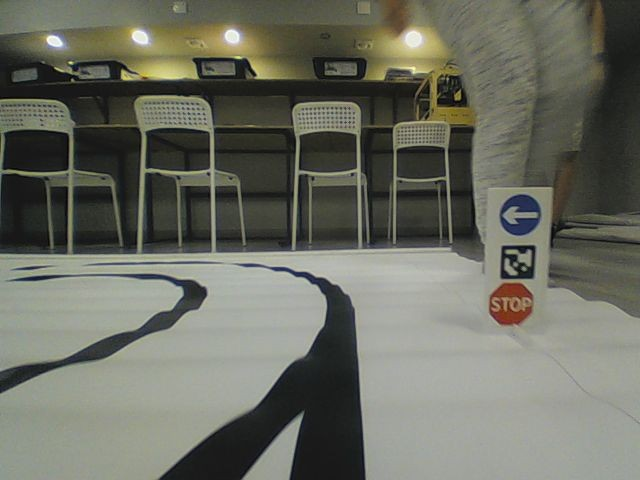Stop: (486, 281, 537, 328)
